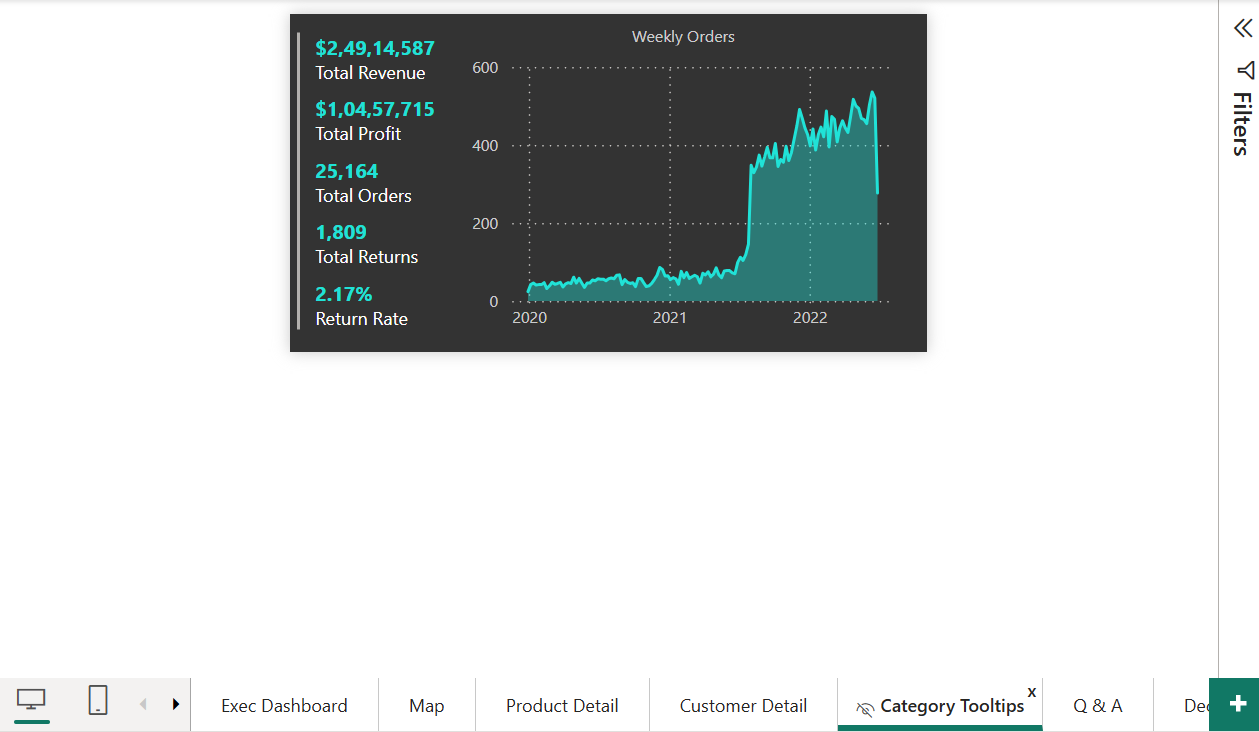

What the dashboard file says about the page in this screenshot:
{"tool":"powerbi","page":{"name":"Category Tooltips","canvas":[425,225],"ordinal":4},"visuals":[{"type":"multiRowCard","fields":{"Values":["Measure Table.Total Revenue","Measure Table.Total Profit","Measure Table.Total Orders","Measure Table.Total Returns","Measure Table.Return Rate"]},"box":[0,7,142,212],"z":0},{"type":"areaChart","title":"Weekly Orders","fields":{"Category":["Calendar Lookup.Start of Week"],"Y":["Measure Table.Total Orders"]},"box":[116,7,293,212],"z":1000}]}

Visuals, with their boxes on the page's 425x225 design canvas (x1, y1, x2, y2). These are canvas units, not pixel positions in the 1259x732 screenshot, which may show the page scaled, cropped or inside an application window:
multiRowCard - Measure Table.Total Revenue x Measure Table.Total Profit: {"left": 0, "top": 7, "right": 142, "bottom": 219}
"Weekly Orders" areaChart: {"left": 116, "top": 7, "right": 409, "bottom": 219}
